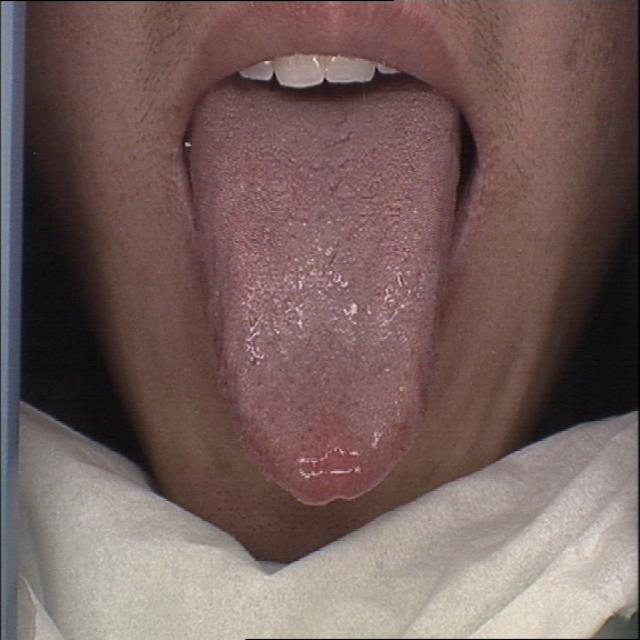tongue: (186, 82, 474, 510)
